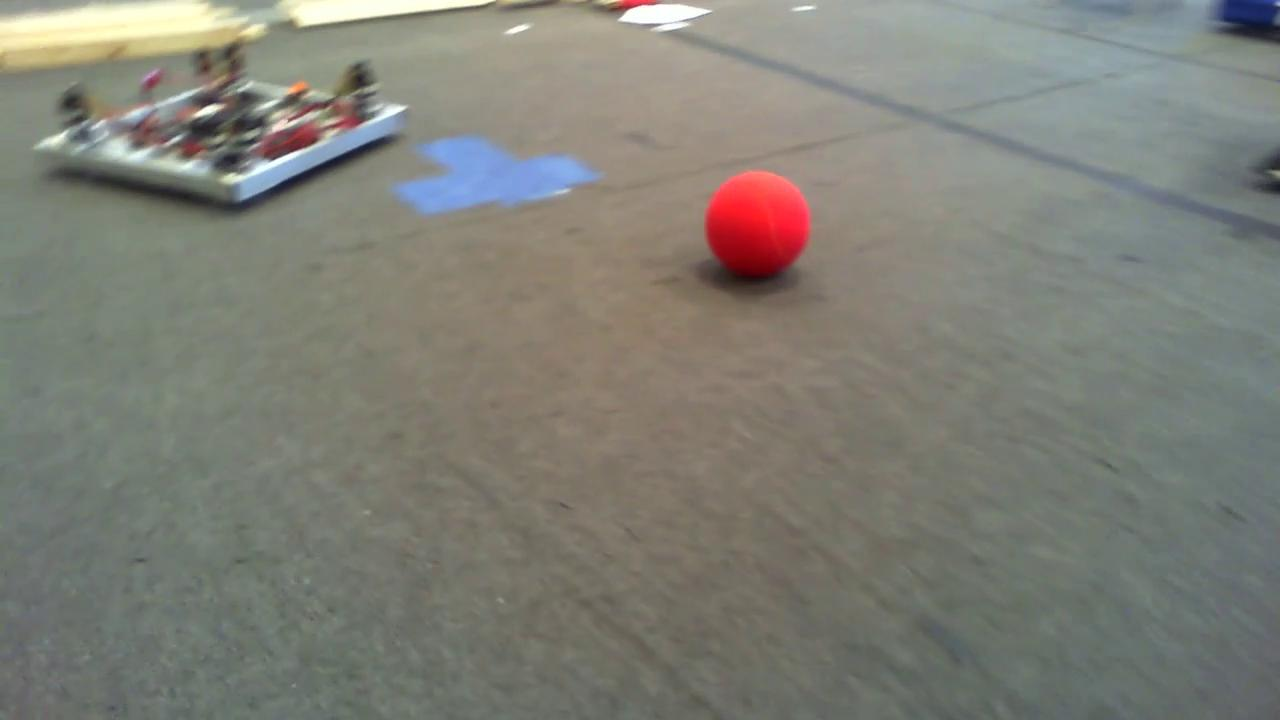Red_Ball: (710, 161, 814, 284)
